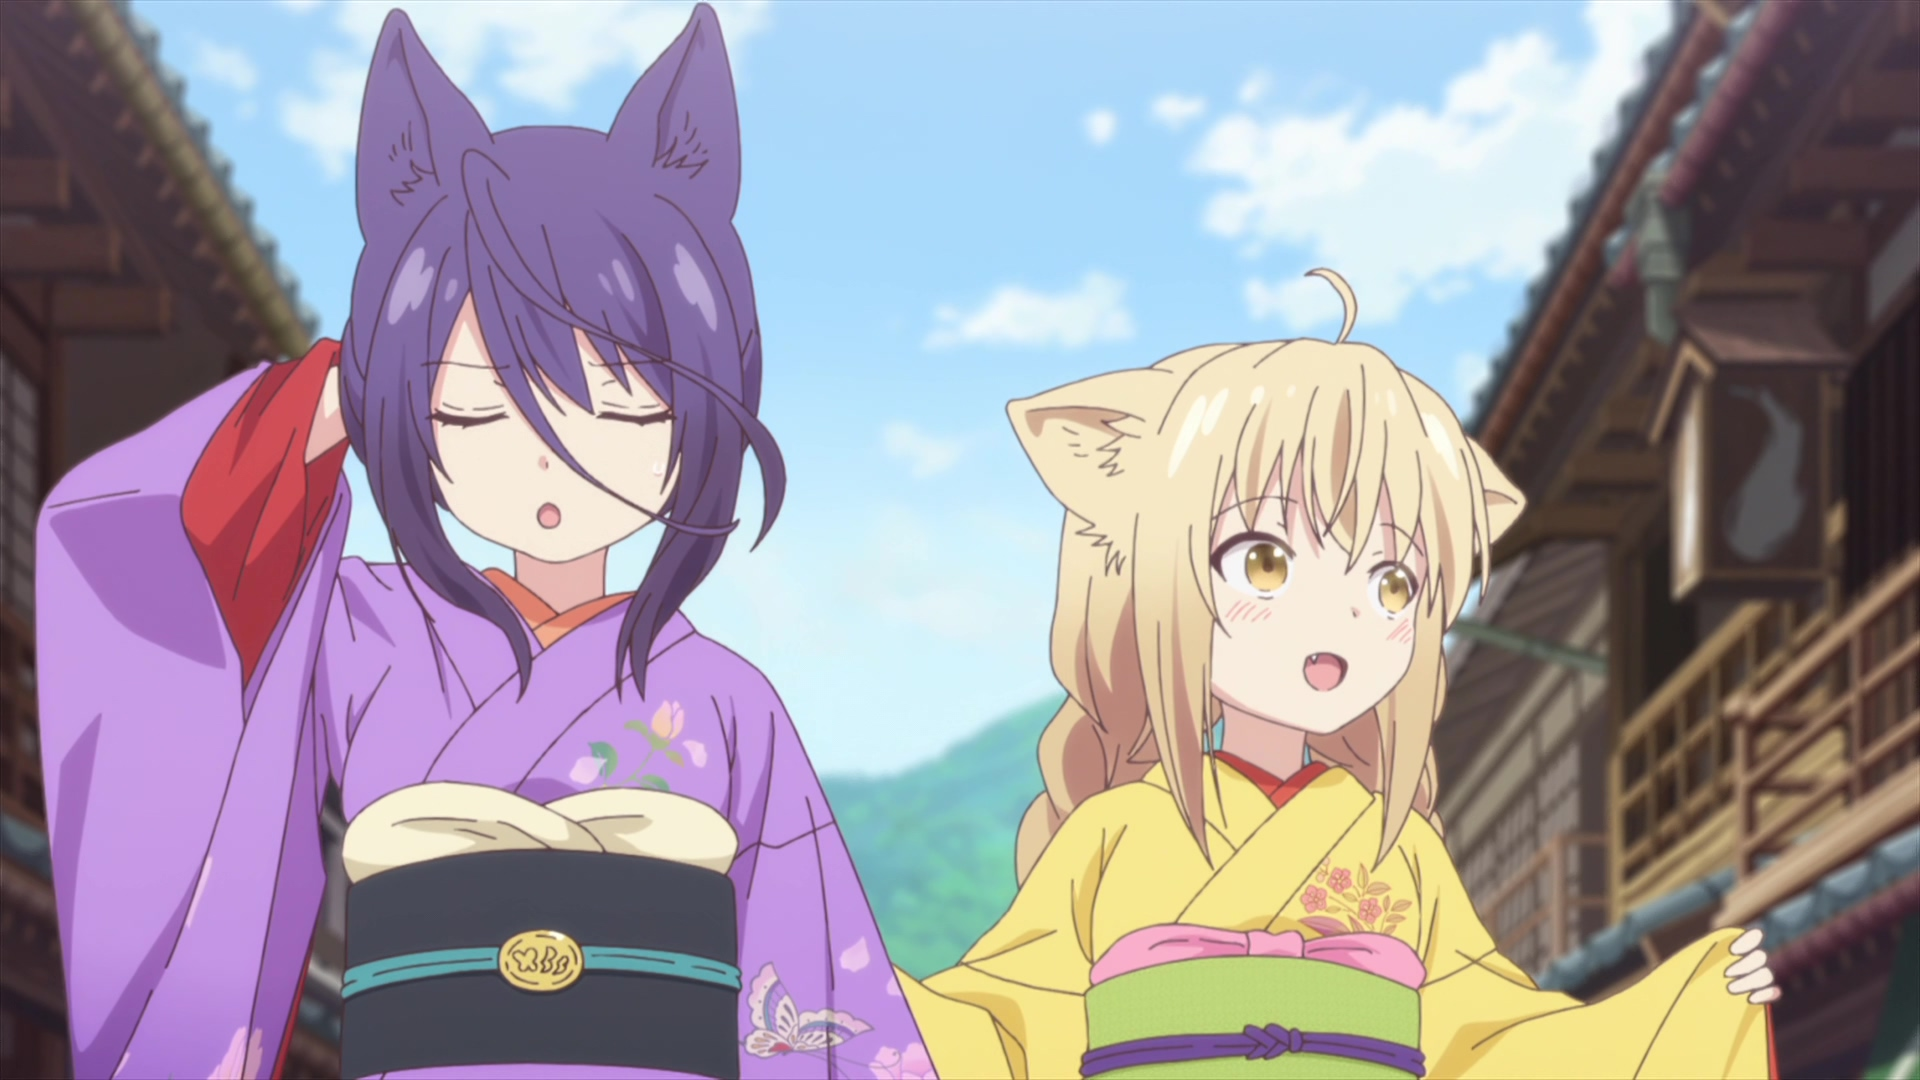柚: (891, 266, 1784, 1080)
皋: (36, 1, 938, 1080)
